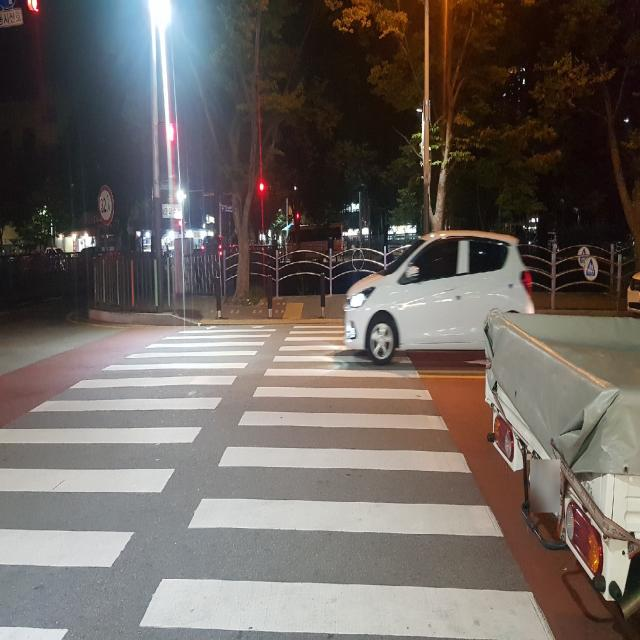빨간불: (162, 122, 180, 184)
횡단보도: (0, 321, 559, 640)
